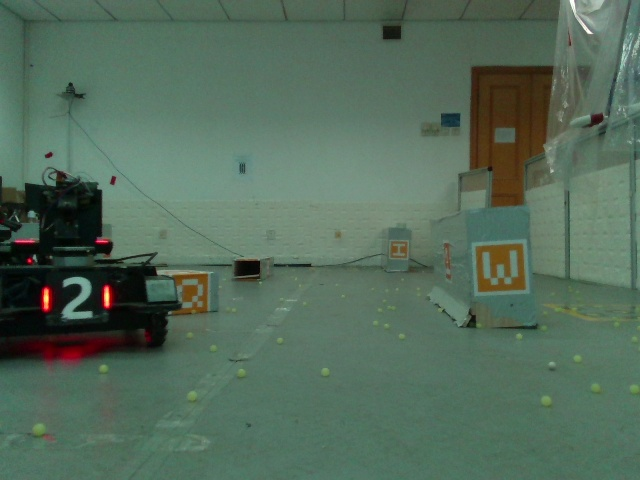Robot_Red: (1, 171, 187, 356)
armor_Red: (42, 275, 111, 320)
